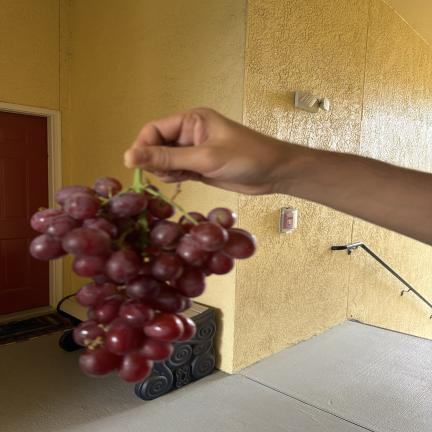grape_cluster: (30, 170, 256, 382)
